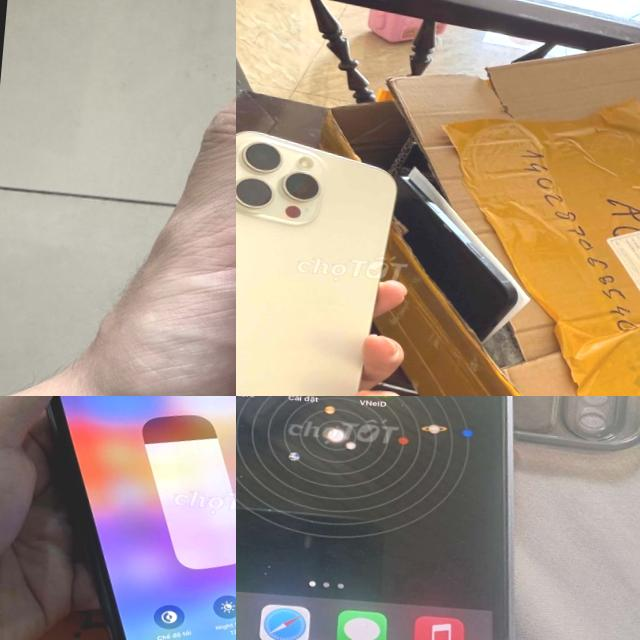gen_11: (7, 396, 236, 640)
gen_15: (236, 96, 401, 396)
gen_7_8: (236, 396, 561, 640)
scratch: (236, 403, 286, 517), (253, 555, 274, 579)
